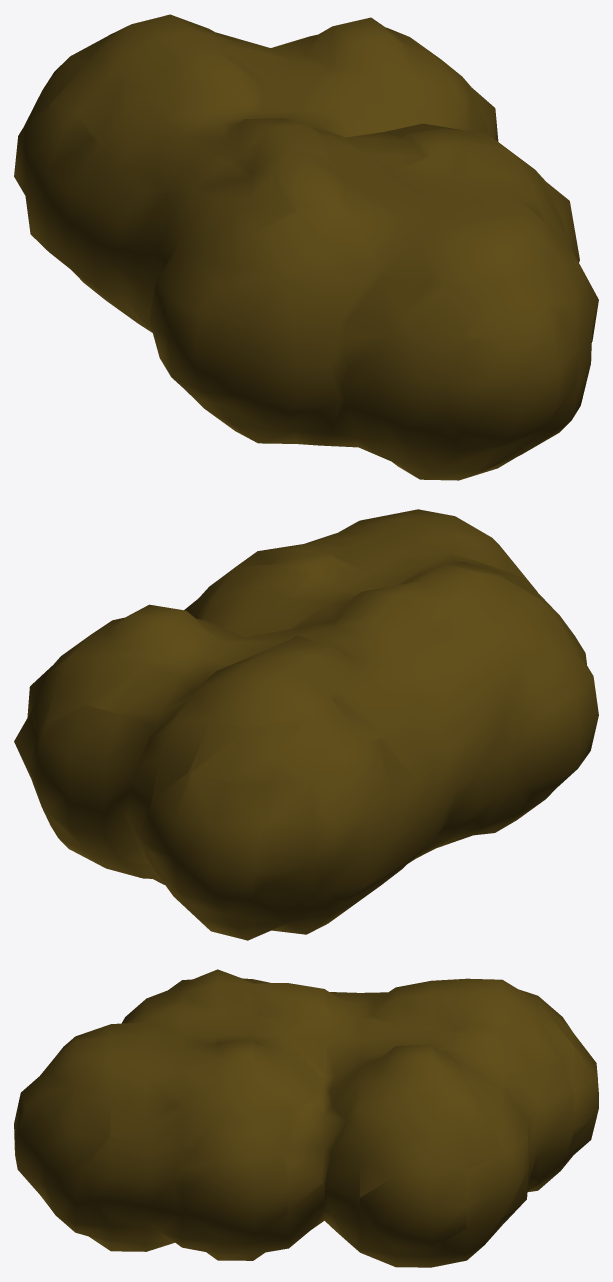
Rendered from Hedge01.FBX.
The picture shows the model from 3 angles, top to bottom: view 1: azimuth 30°, elevation 25°; view 2: azimuth 150°, elevation 25°; view 3: azimuth 270°, elevation 25°; orthographic projection. The views are drawn at different scales.
Parts seen in each view (by area): view 1: Hedge01; view 2: Hedge01; view 3: Hedge01.
Boxes of the visible parts, x1,y1,x2,y2 form: Hedge01: (14, 14, 598, 480); Hedge01: (14, 509, 598, 940); Hedge01: (14, 969, 598, 1267).
Bounding box in the file's own units: 3.34 × 2.11 × 4.85.
